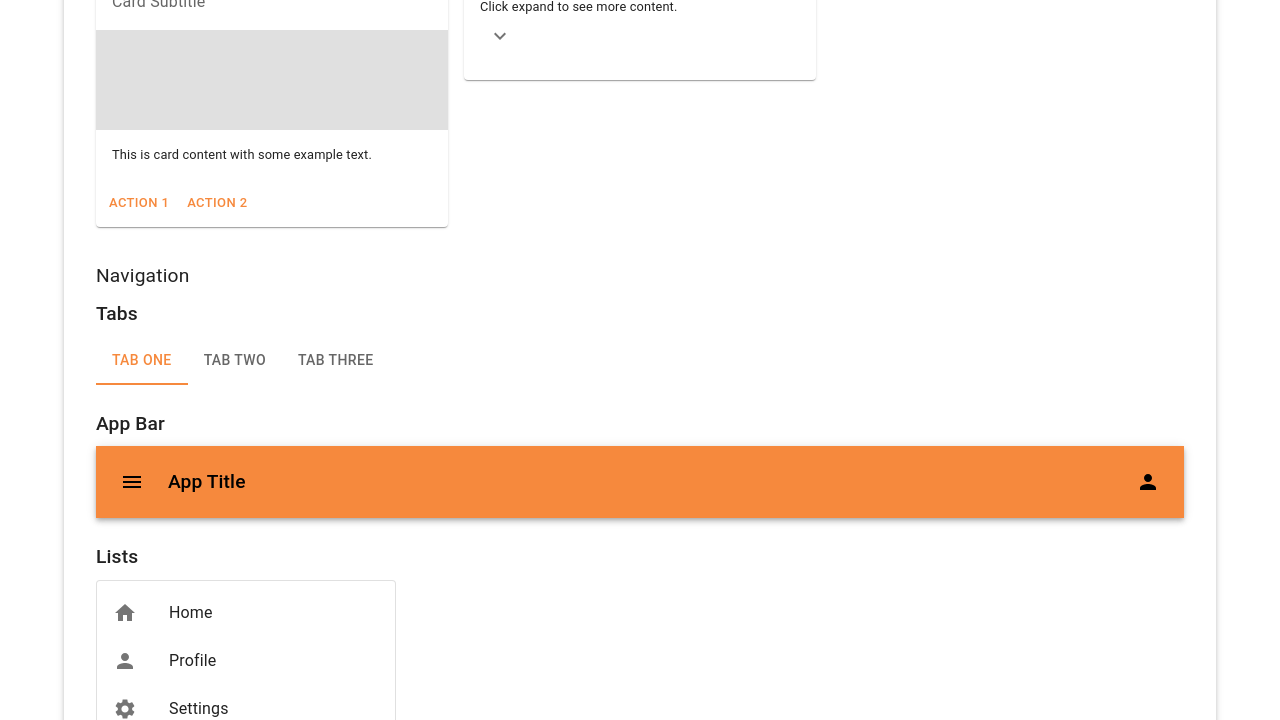
Test: StyleGuide Component › Interactive Functionality › maintains state across interactions
(page scrolled)
Click the tab "Tab Two" at point(235, 361), box x1=188 y1=337 x2=282 y2=385
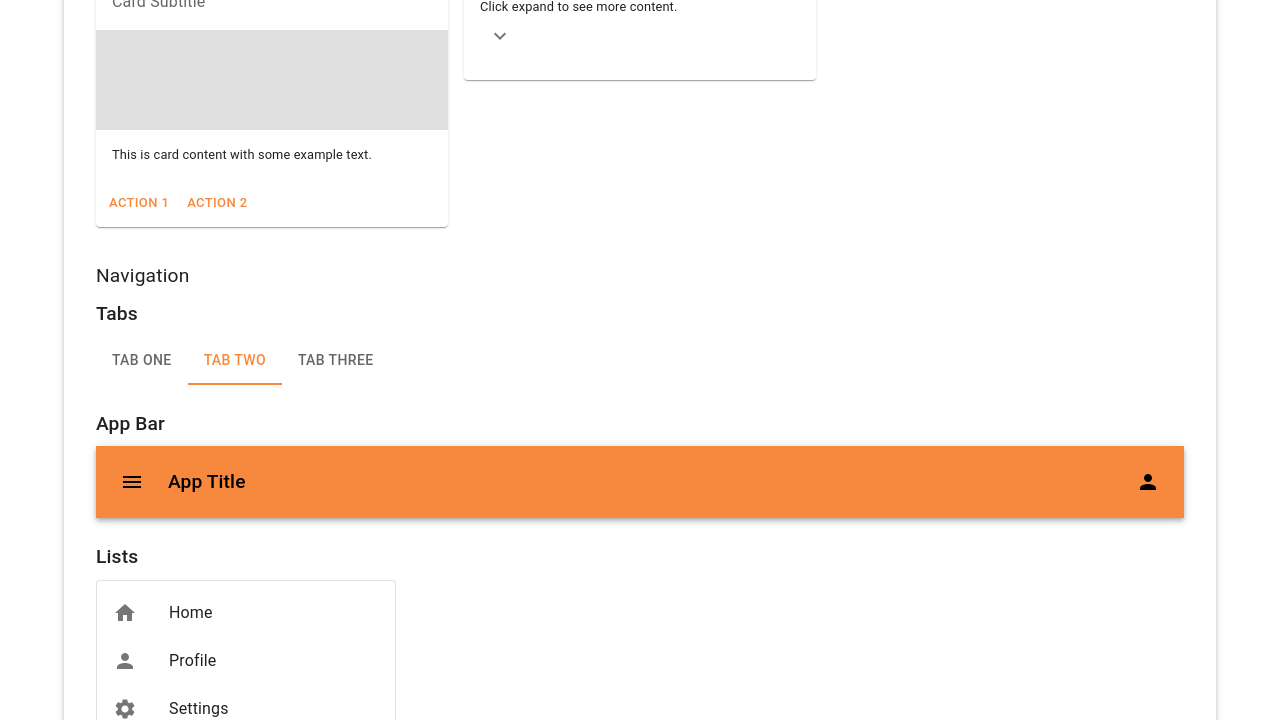
Click the button named "show more" at point(500, 36), box x1=480 y1=16 x2=520 y2=56
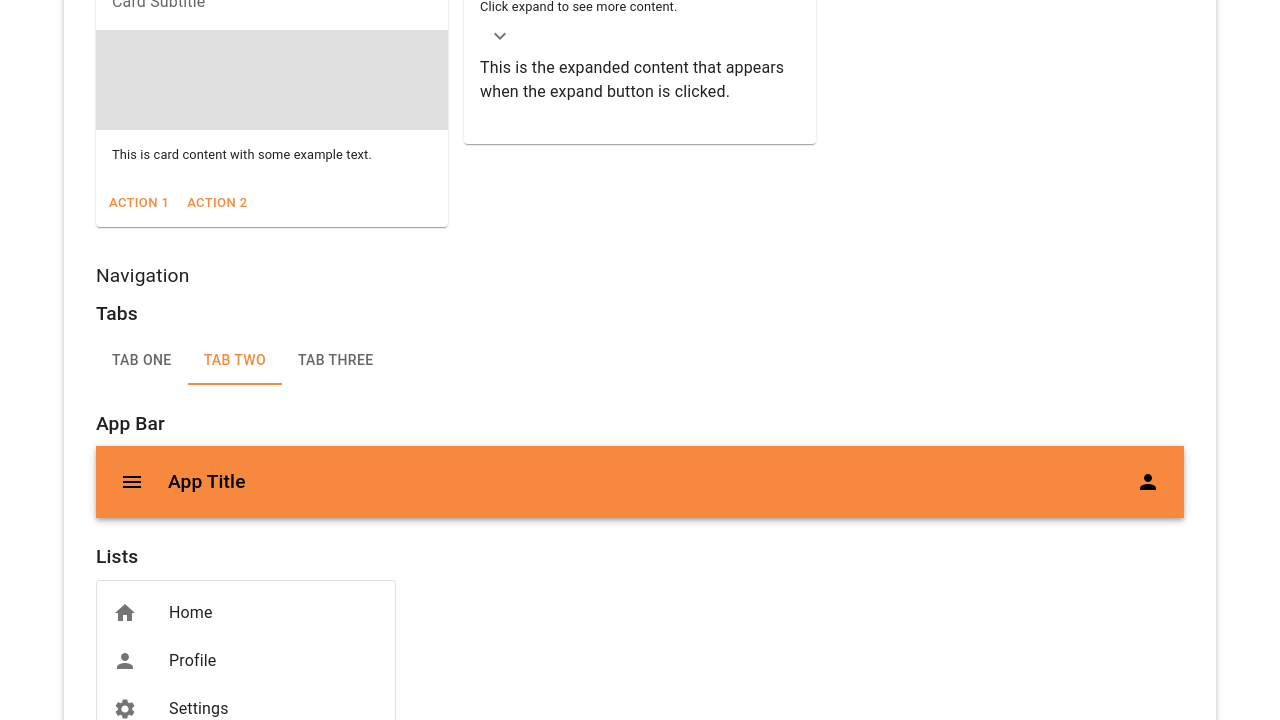
Check: the text "This is the expanded content" is shown, box x1=480 y1=58 x2=784 y2=101
